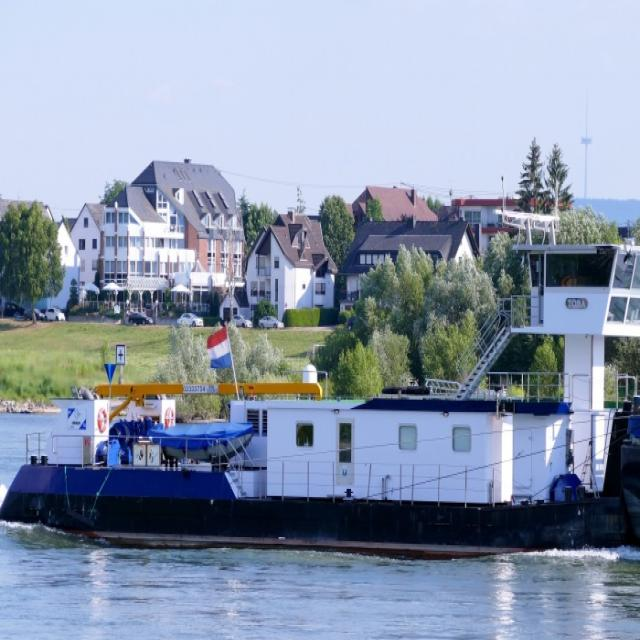tugboat: (1, 204, 640, 564)
